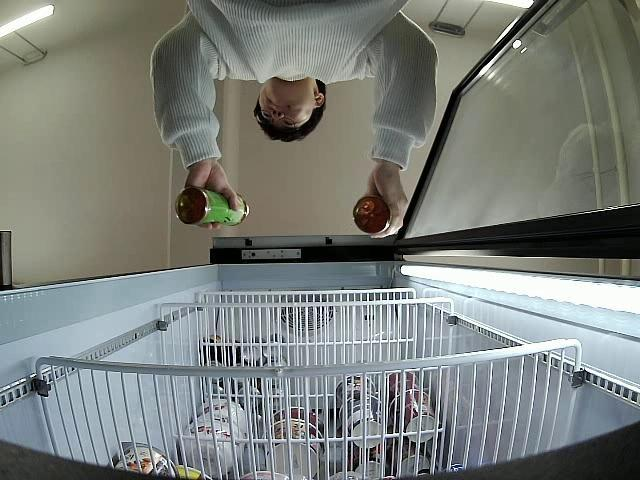19_17cha: (175, 189, 250, 226), (352, 196, 391, 236)
